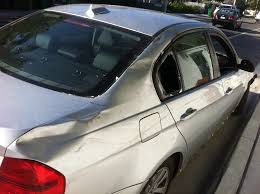Broken-glass: (158, 50, 184, 98)
Dent: (12, 110, 106, 165)
